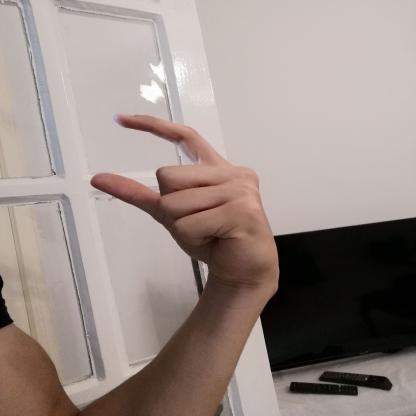DELL: (74, 104, 293, 297)
